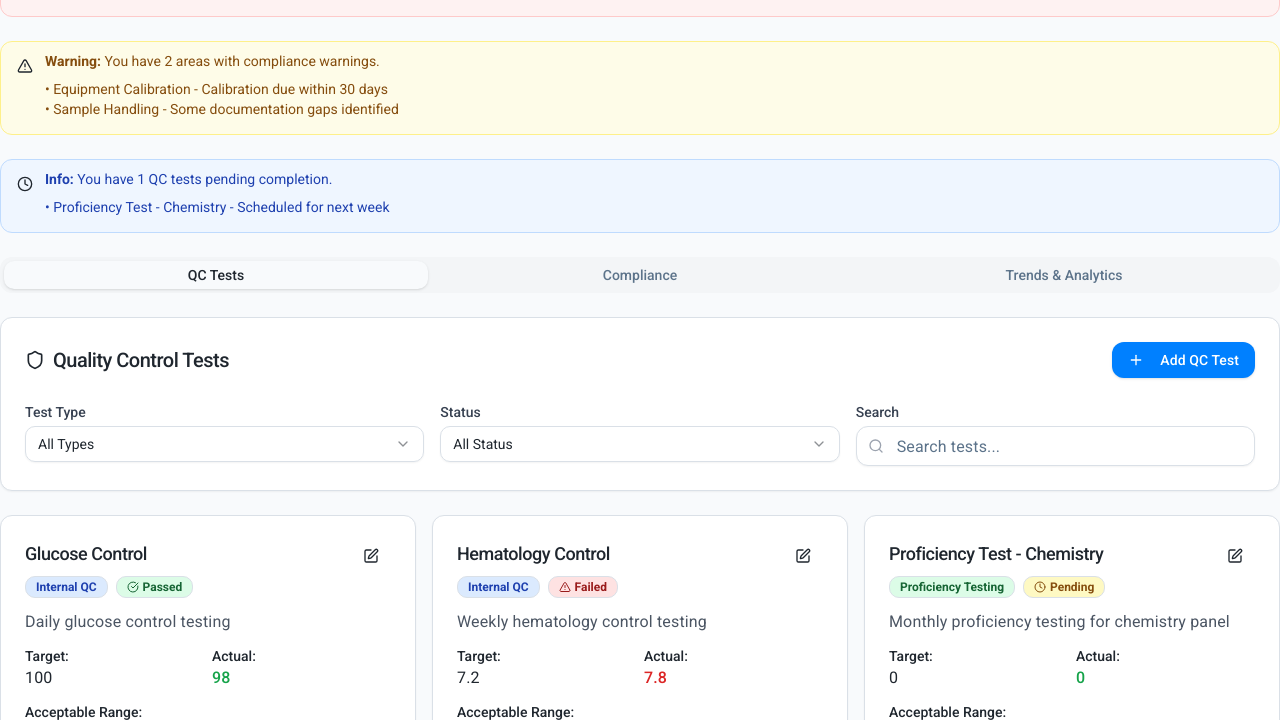
Test: Quality Control › QC Test Form › opens QC test form when Add QC Test button is clicked
(page scrolled)
Step 1. Click the button "Add QC Test" → (1184, 360), box [1112,342,1255,378]
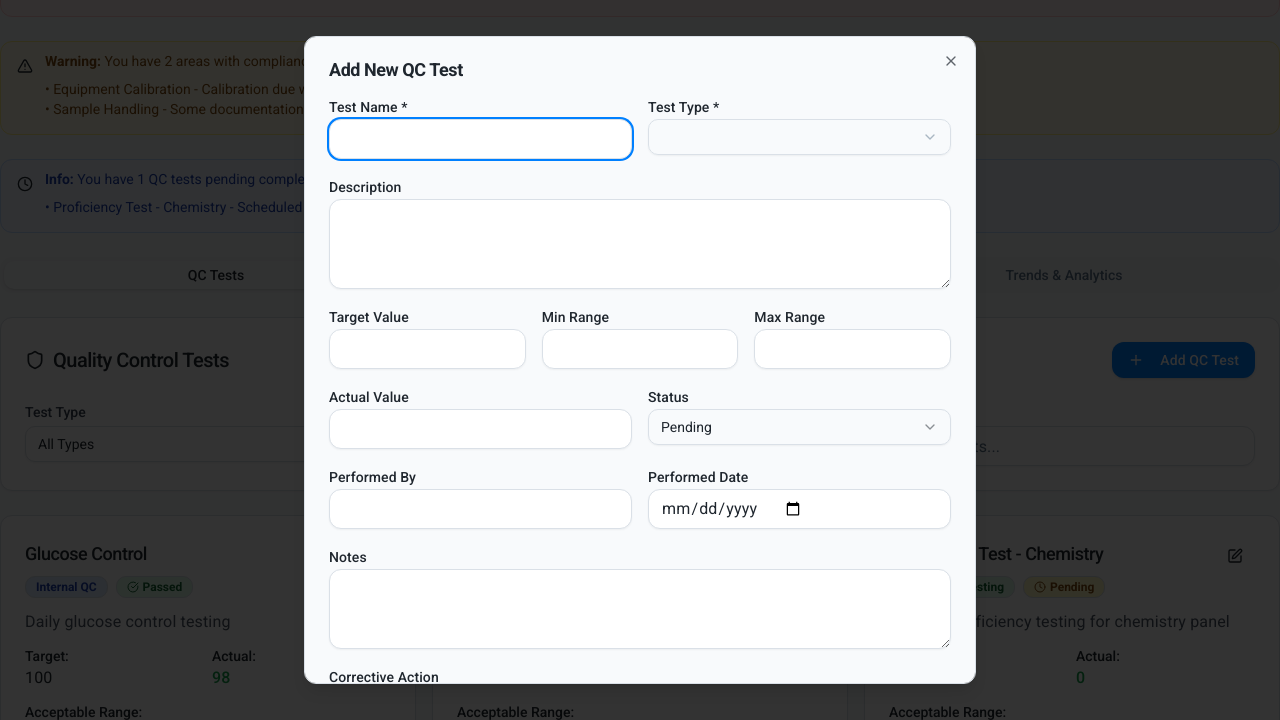
Now the heading "Add New QC Test" is shown, box [329,59,463,80]
